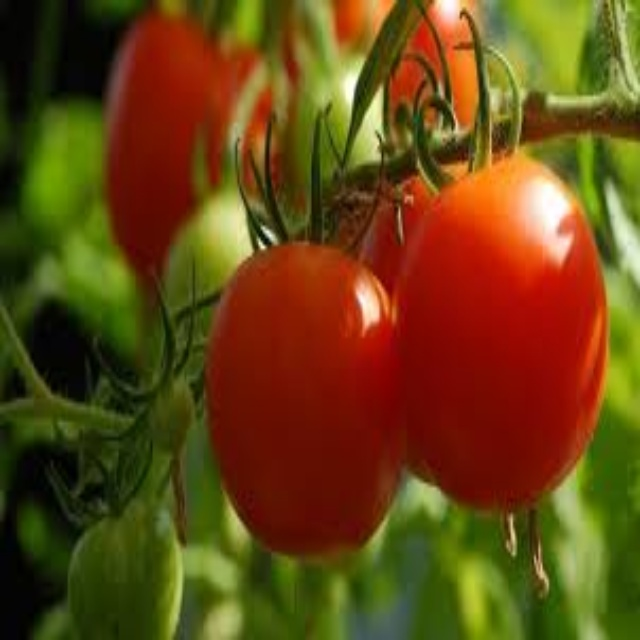tomato: (186, 227, 436, 564), (386, 149, 606, 517), (99, 31, 306, 270), (370, 9, 522, 167)
